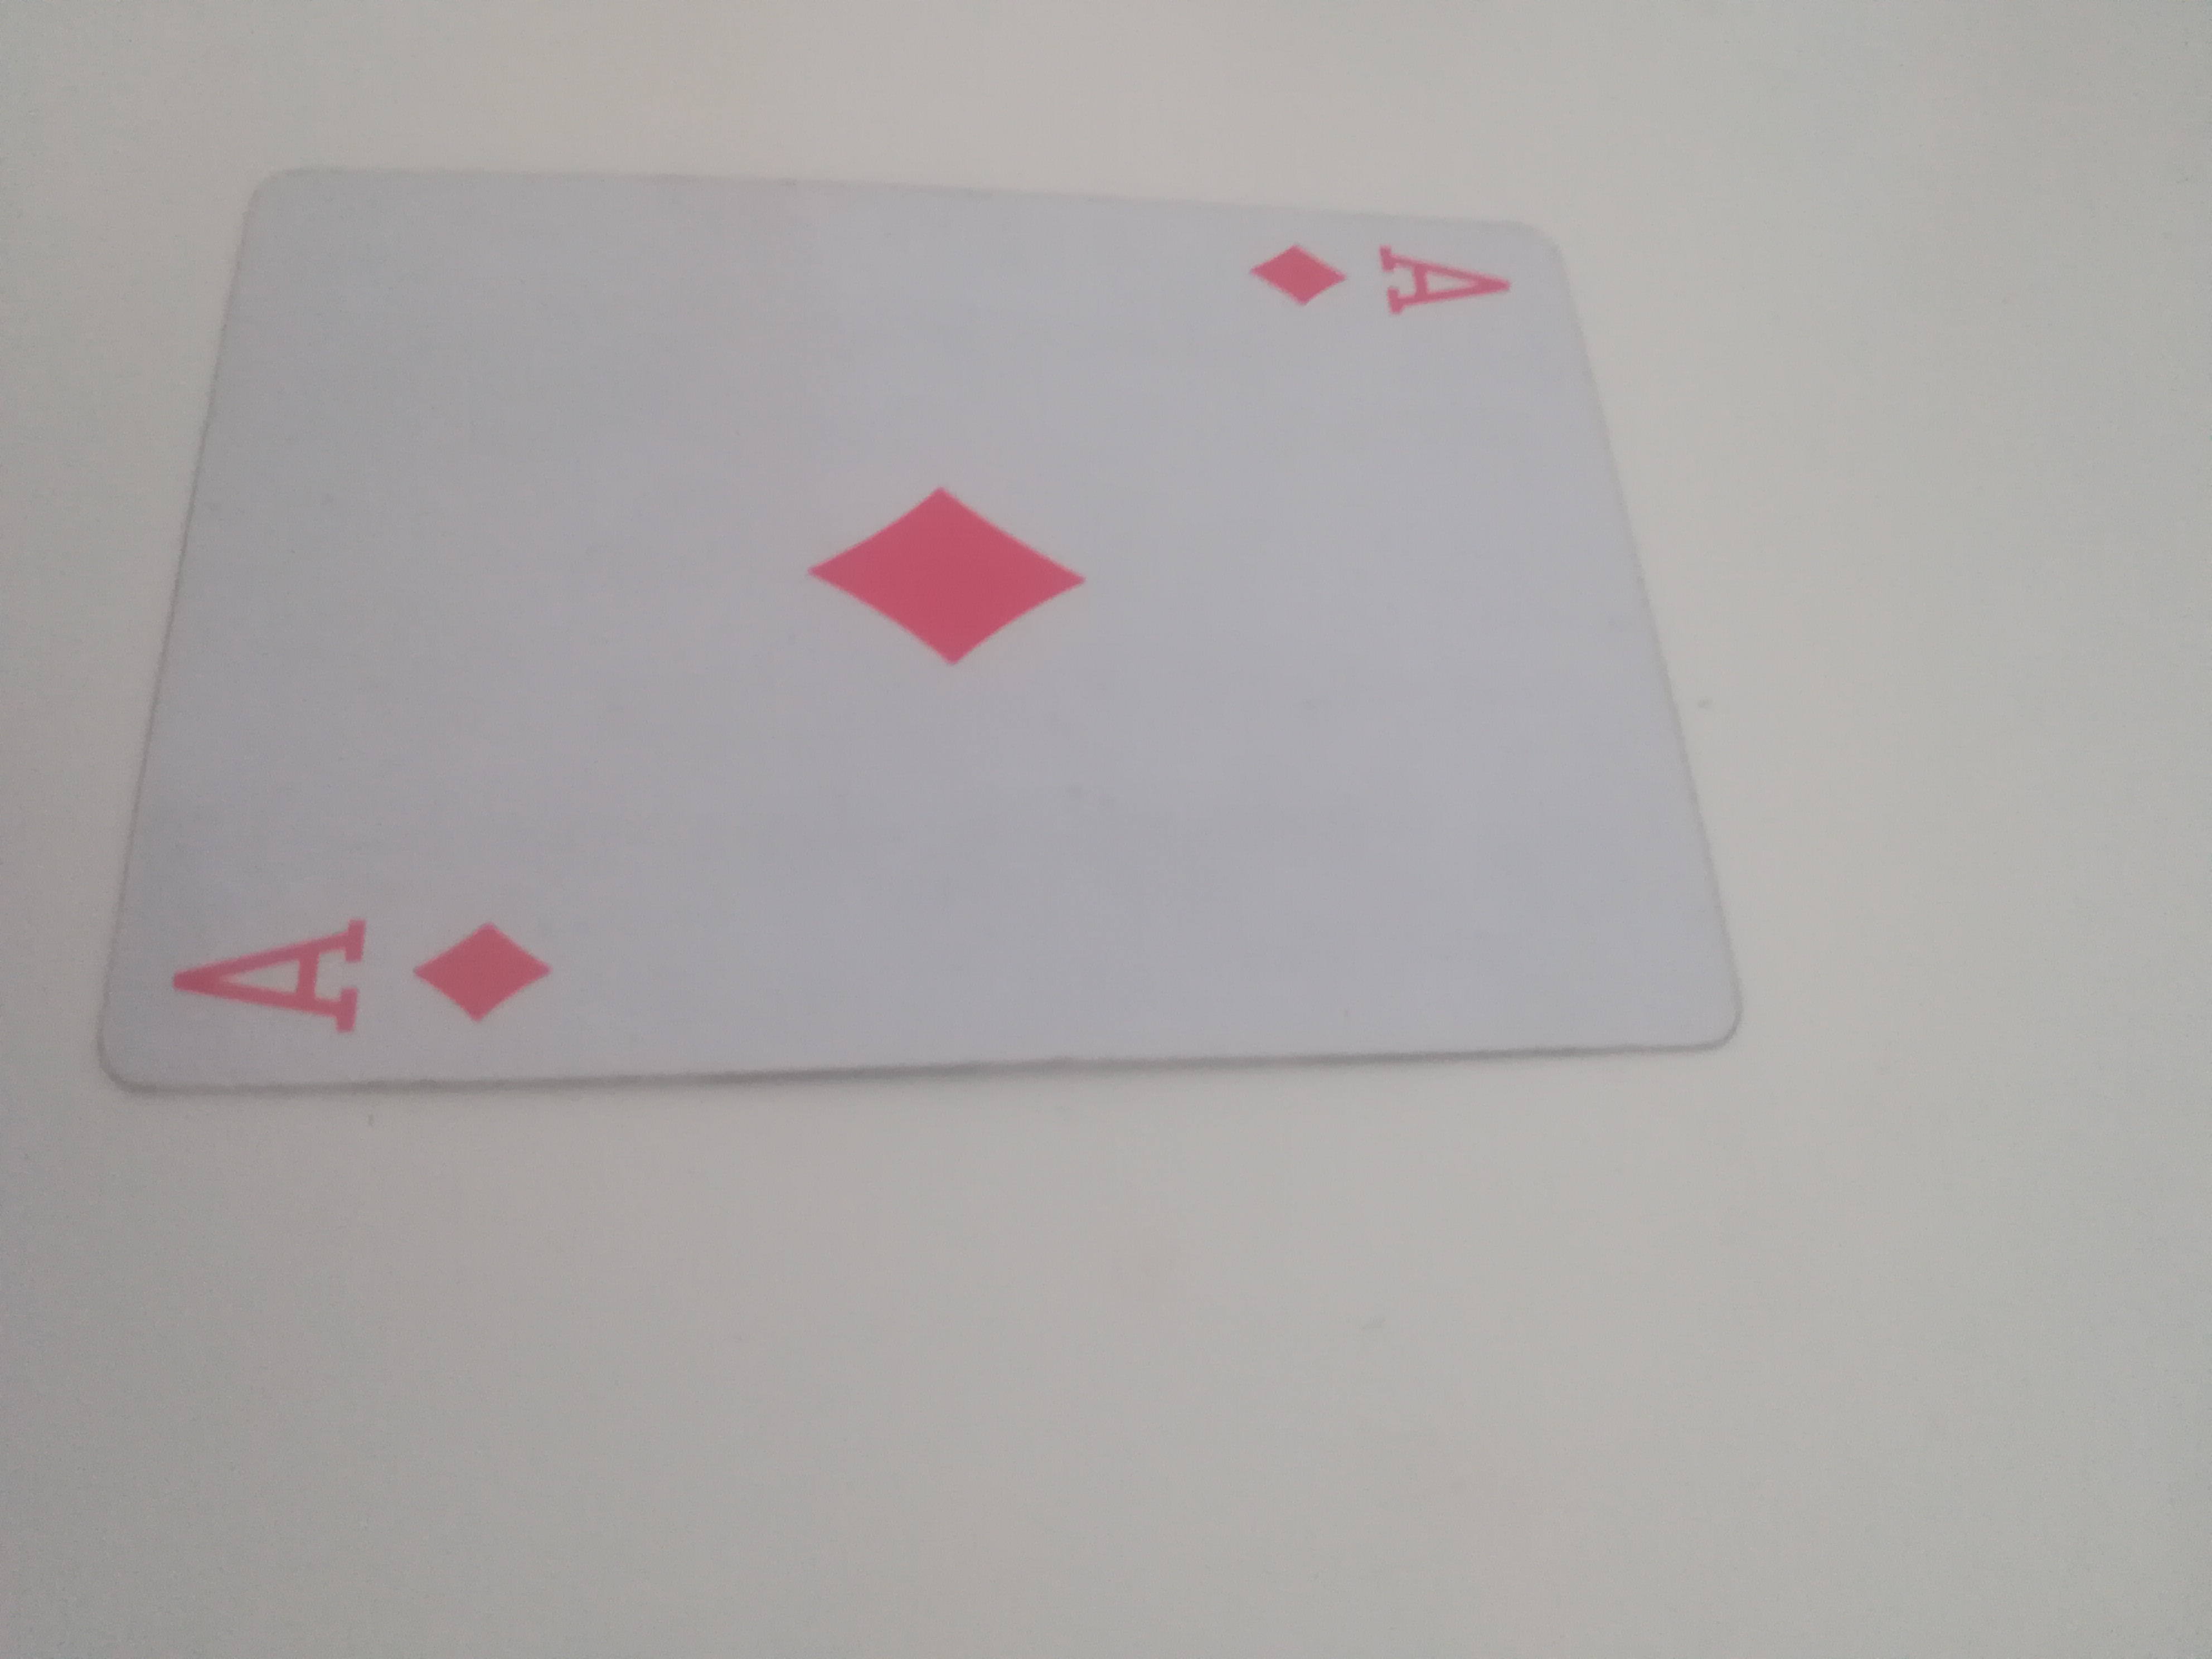AD: (91, 183, 1740, 1114)
